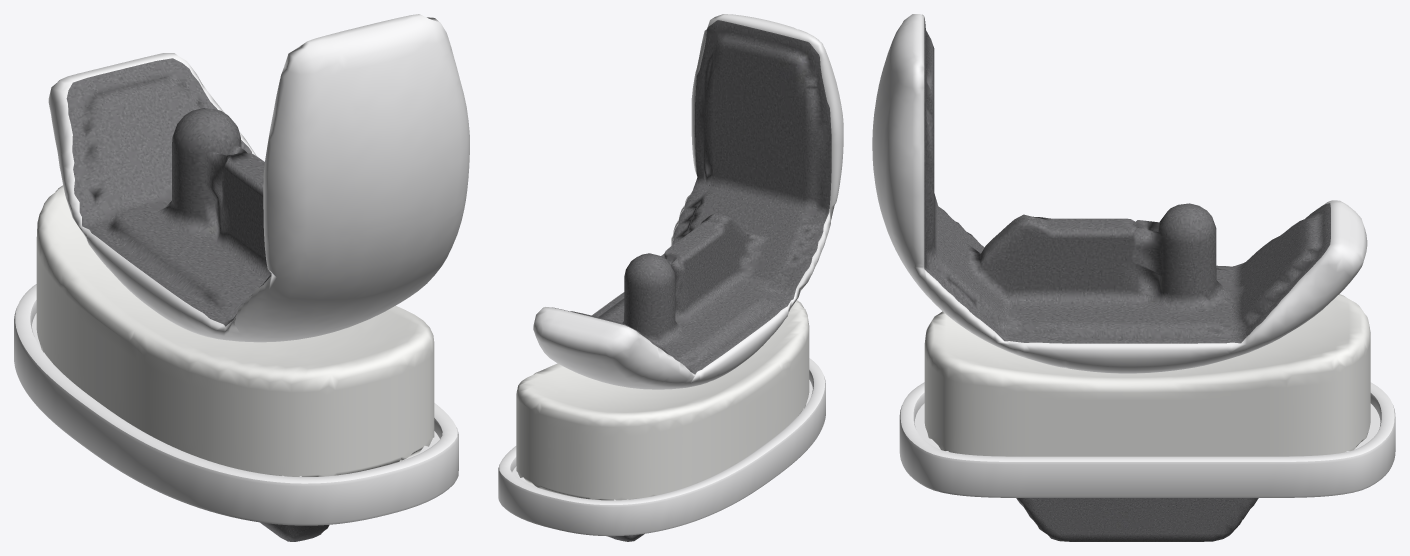
File: iu-uni-knee.lod1.glb
3 views of the same model, side by side, from view 1: azimuth 30°, elevation 25°; view 2: azimuth 150°, elevation 25°; view 3: azimuth 270°, elevation 25° (orthographic). The views are drawn at different scales.
Parts seen in each view (by area): view 1: femoral.001, insert.001, tray.001; view 2: femoral.001, insert.001, tray.001; view 3: femoral.001, insert.001, tray.001.
Part boxes in pixels (x1=…): femoral.001: x1=48, y1=14, x2=469, y2=342; insert.001: x1=36, y1=185, x2=434, y2=476; tray.001: x1=14, y1=284, x2=458, y2=541; femoral.001: x1=533, y1=14, x2=843, y2=389; insert.001: x1=516, y1=300, x2=809, y2=500; tray.001: x1=498, y1=358, x2=825, y2=541; femoral.001: x1=872, y1=14, x2=1367, y2=373; insert.001: x1=924, y1=294, x2=1370, y2=456; tray.001: x1=899, y1=382, x2=1395, y2=541.
Size of the model in its own units: 0.0265 by 0.055 by 0.0527.
Materials: 3 (1 with a texture image).
